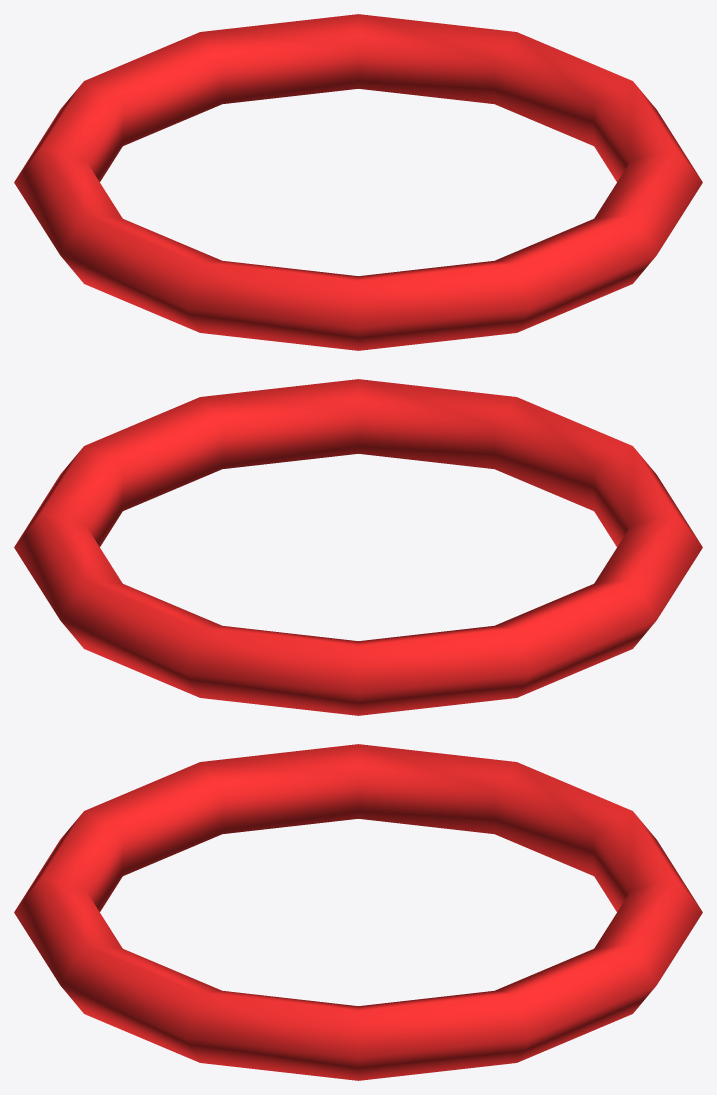
The model's file is ring.fbx.
3 views of the same model, one above another, from view 1: azimuth 30°, elevation 25°; view 2: azimuth 150°, elevation 25°; view 3: azimuth 270°, elevation 25° (orthographic).
Parts seen in each view (by area): view 1: ring; view 2: ring; view 3: ring.
Boxes of the visible parts, box(x1,y1,x2,y2) form: ring: box(14, 14, 702, 350); ring: box(14, 379, 702, 715); ring: box(14, 744, 702, 1080).
Size of the model in its own units: 3.36 by 0.3714 by 3.36.
